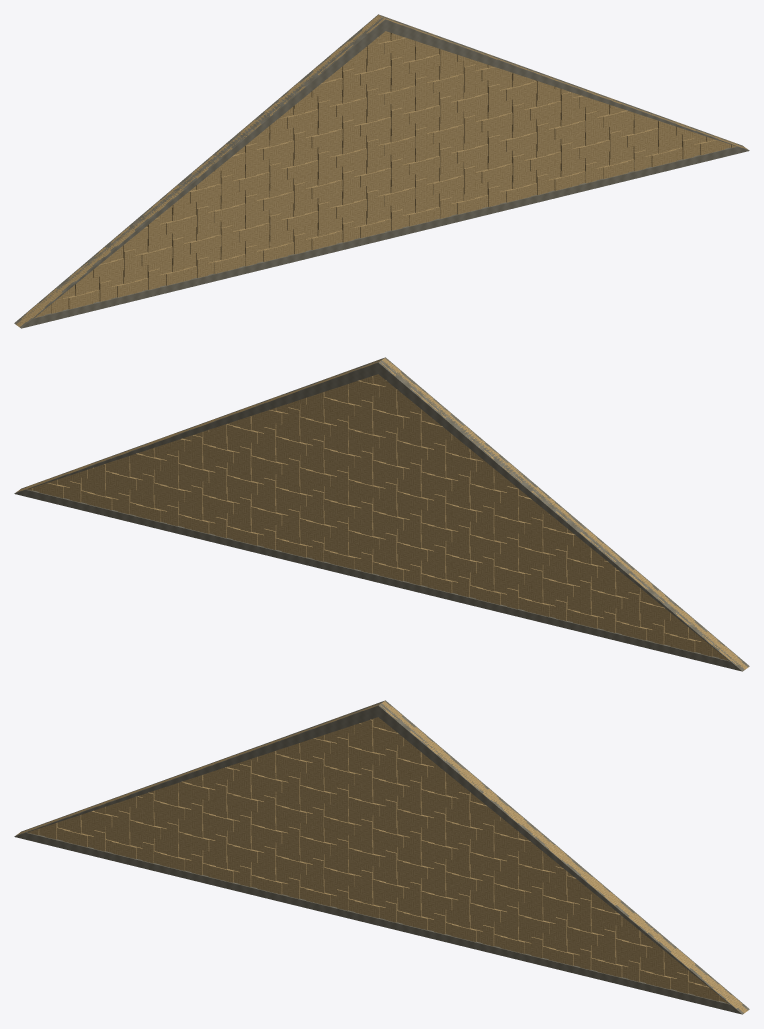
Rendered from MRP_Gable_Bamboo_6m.fbx.
3 views of the same model, one above another, from view 1: azimuth 30°, elevation 25°; view 2: azimuth 150°, elevation 25°; view 3: azimuth 330°, elevation 25° (orthographic).
Visible parts, largest first — view 1: Body; view 2: Body; view 3: Body.
Boxes of the visible parts, x1,y1,x2,y2 form: Body: [14, 14, 749, 328]; Body: [14, 357, 749, 671]; Body: [14, 700, 749, 1014].
Size of the model in its own units: 6 by 1.73 by 0.104.
